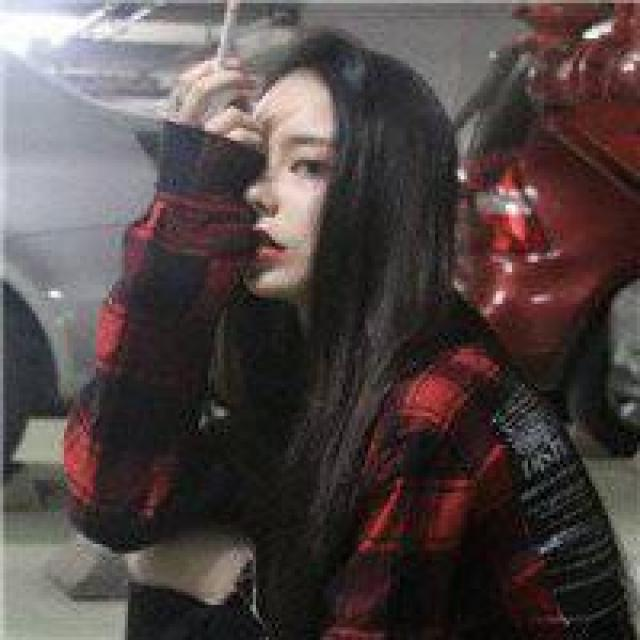Сигарета: (214, 4, 237, 70)
Тело: (59, 35, 638, 640)
